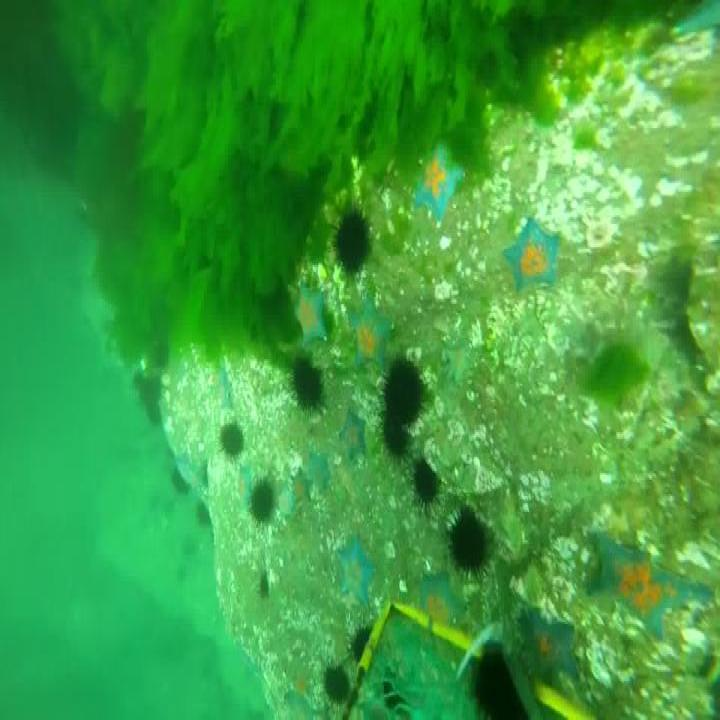echinus: (473, 643, 524, 720), (448, 507, 496, 581), (326, 208, 373, 277), (382, 352, 428, 418), (288, 363, 324, 414), (131, 372, 164, 422), (412, 459, 439, 517), (246, 481, 273, 522), (350, 628, 379, 666), (324, 665, 349, 707), (221, 423, 242, 459), (384, 427, 409, 453), (194, 505, 213, 526)
starfish: (594, 524, 712, 646), (522, 612, 579, 690), (503, 219, 561, 293), (416, 144, 462, 226), (335, 535, 376, 612), (415, 574, 464, 635), (348, 304, 390, 372), (296, 286, 327, 345), (338, 412, 368, 458), (446, 345, 469, 384), (287, 665, 311, 700), (291, 470, 310, 509), (310, 457, 331, 483), (211, 372, 230, 398), (177, 460, 194, 486), (238, 473, 250, 505)
